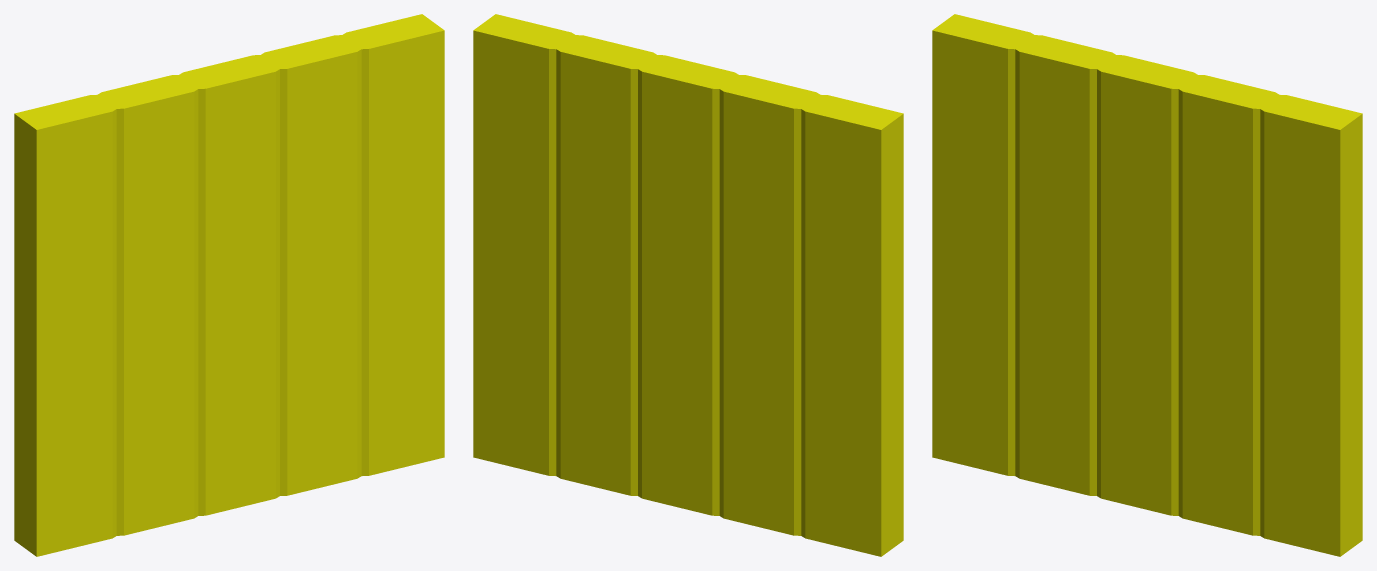
The picture shows the model from 3 angles, left to right: view 1: azimuth 30°, elevation 25°; view 2: azimuth 150°, elevation 25°; view 3: azimuth 330°, elevation 25°; orthographic projection.
Visible parts, largest first — view 1: door2; view 2: door2; view 3: door2.
Boxes of the visible parts, x1,y1,x2,y2 form: door2: [14, 14, 444, 556]; door2: [473, 14, 903, 556]; door2: [932, 14, 1362, 556].
Bounding box in the file's own units: 3.01 × 3.01 × 0.2878.
Materials: 1 (1 with a texture image).
